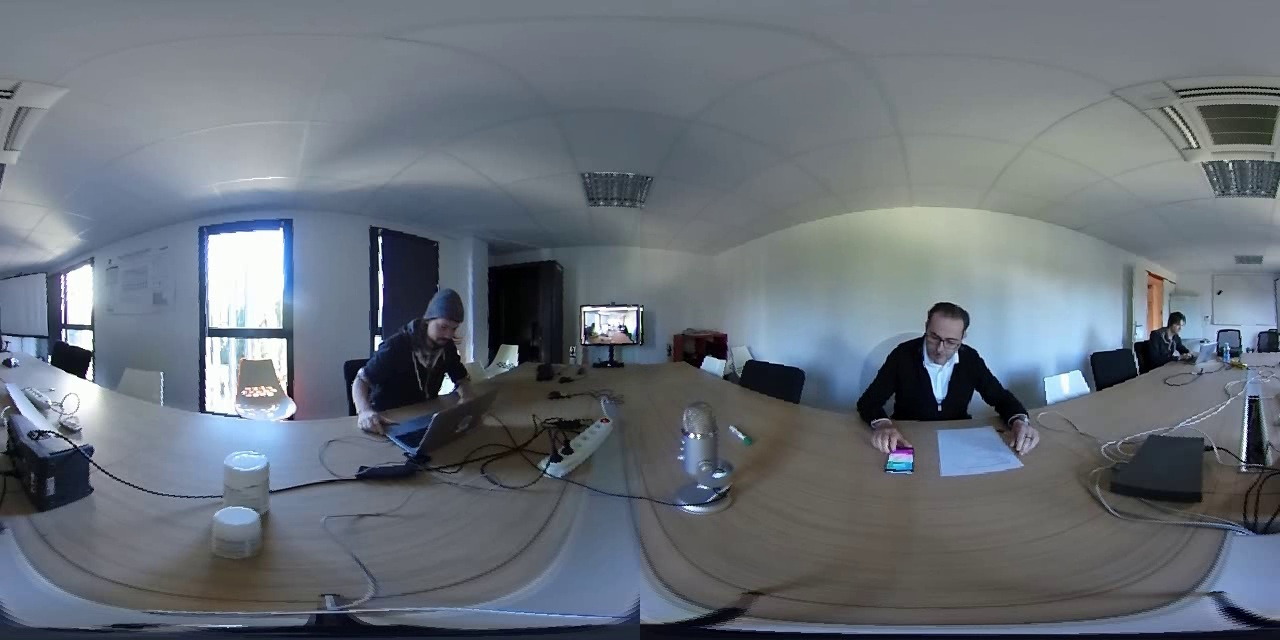person: (882, 297, 994, 416), (367, 288, 492, 391), (1140, 301, 1208, 374)
